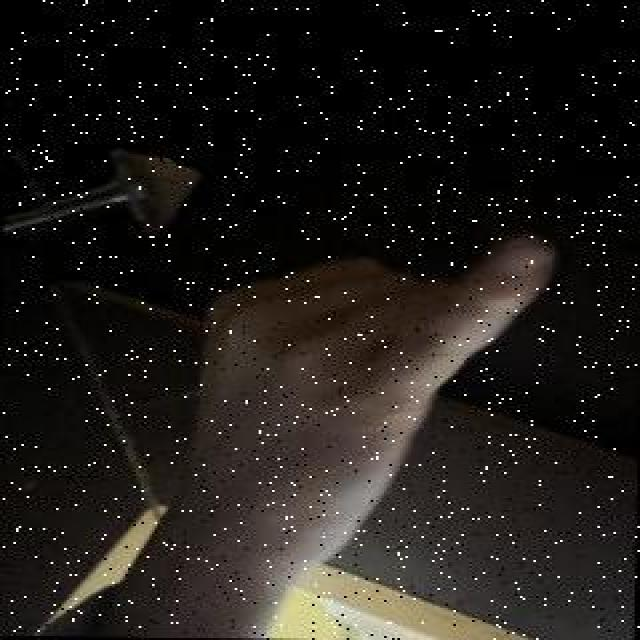J: (132, 195, 561, 583)
